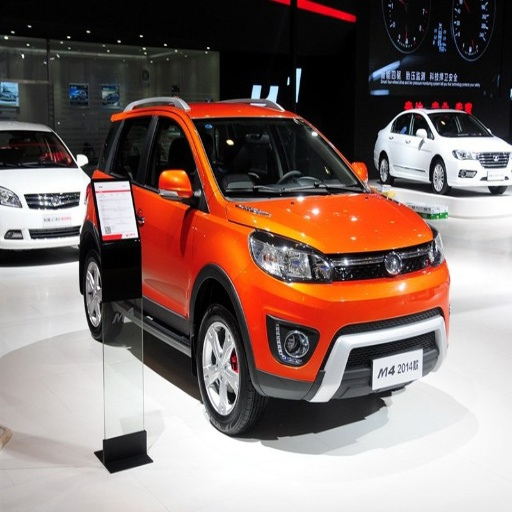front_bumper: (237, 242, 448, 402)
front_right_door: (139, 111, 204, 335)
front_right_light: (250, 232, 343, 283)
